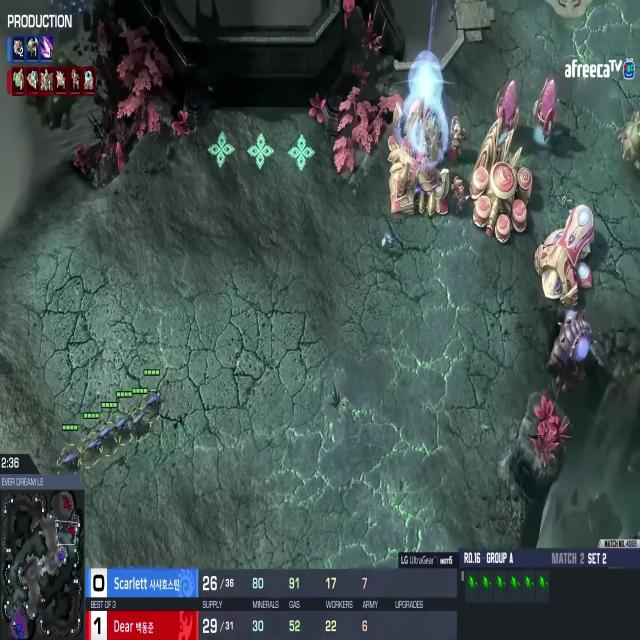adept: (447, 110, 467, 168)
overlord: (545, 301, 596, 398)
zealot: (450, 170, 470, 221)
zergling: (140, 381, 163, 419), (57, 446, 83, 474), (82, 426, 101, 461), (130, 403, 146, 442), (96, 417, 116, 448), (114, 411, 130, 445)
